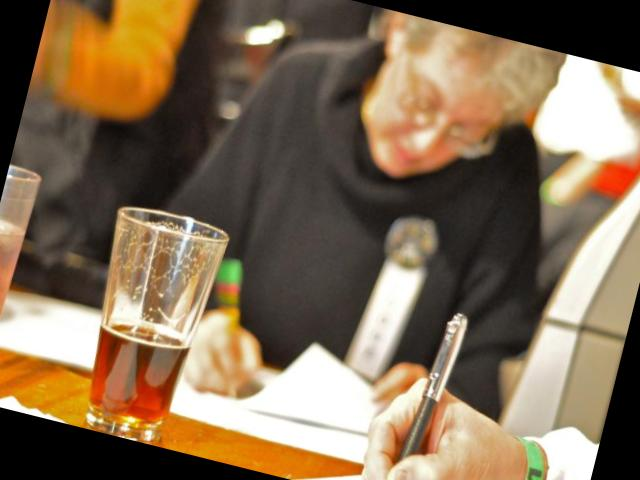PEN: (379, 292, 478, 480)
